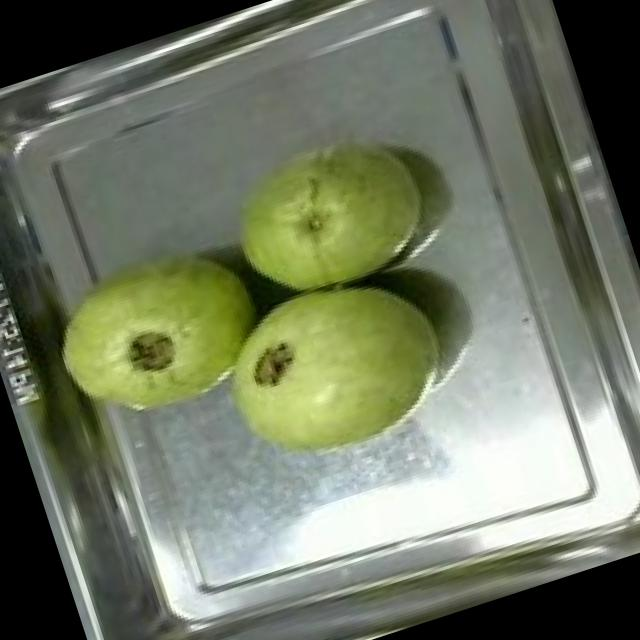Fruit: (199, 248, 473, 489), (26, 217, 288, 452), (204, 106, 449, 324)
